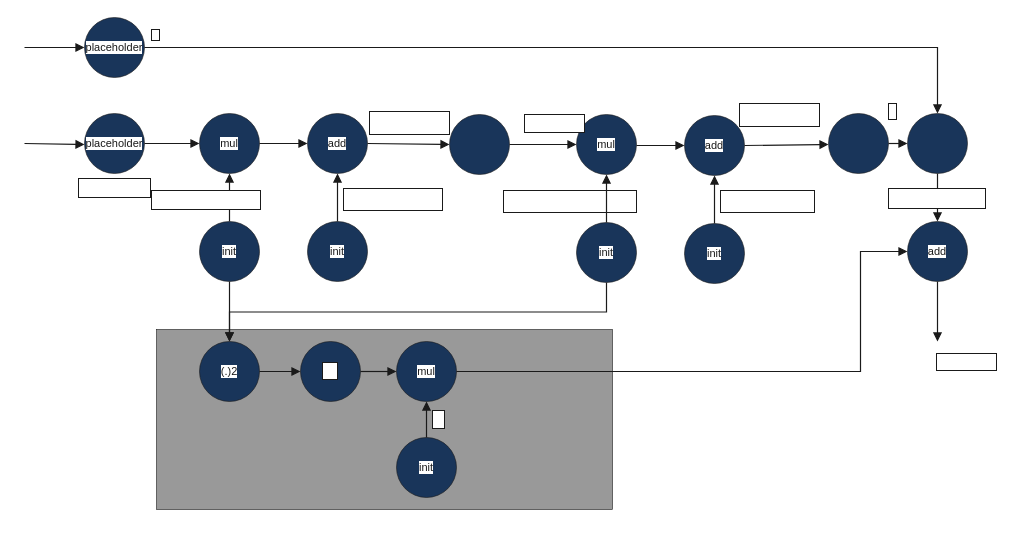
Some shapes in this 1015 by 539 pixel diagram are drawn without their labels. Each missing label, with the centre of its shape:
CE: the point at 937,143
Regularizer: the point at 192,503
RELU: the point at 479,144
softmax: the point at 858,143
